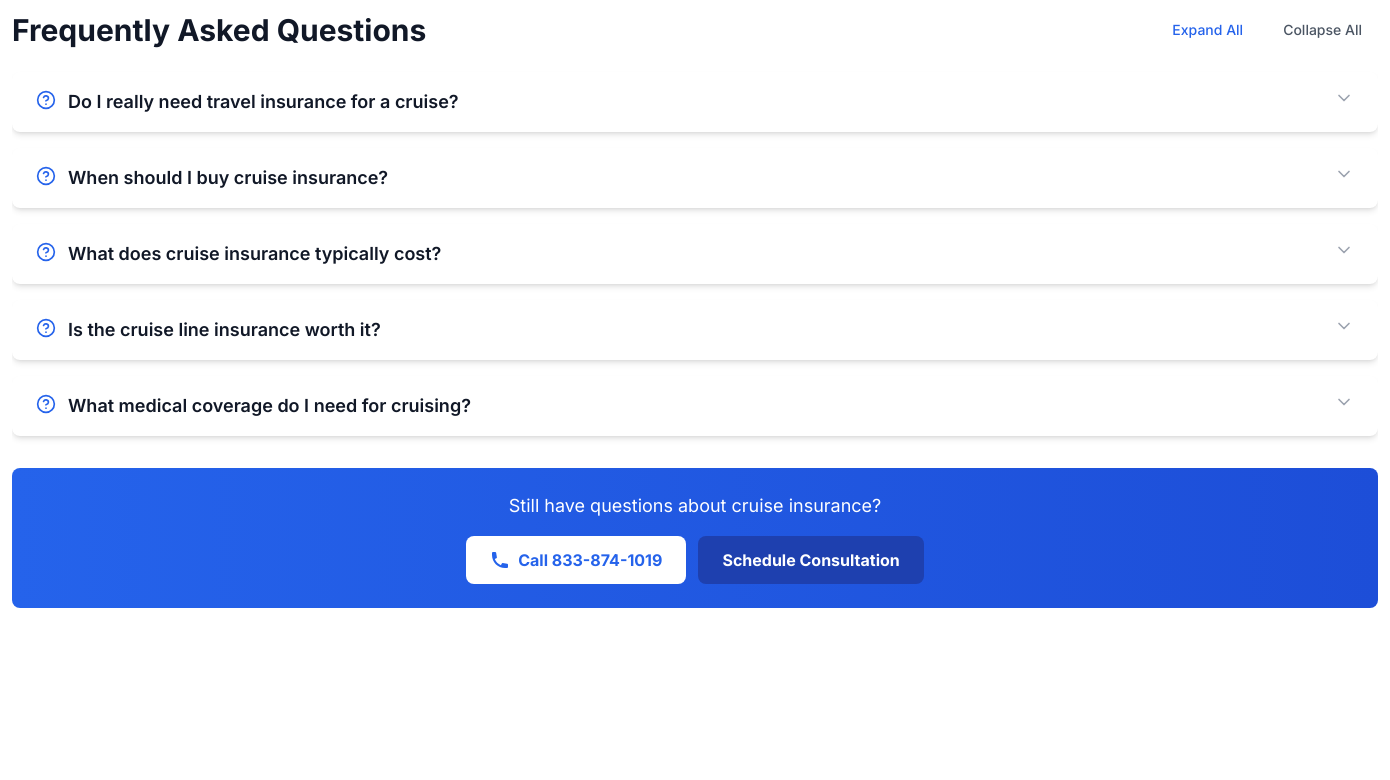
FAQAccordion Component › should expand an item when clicked
Note: Click the first question
Click the button "Do I really need travel insurance for a cruise?": (263,102) [12,72,1378,132]
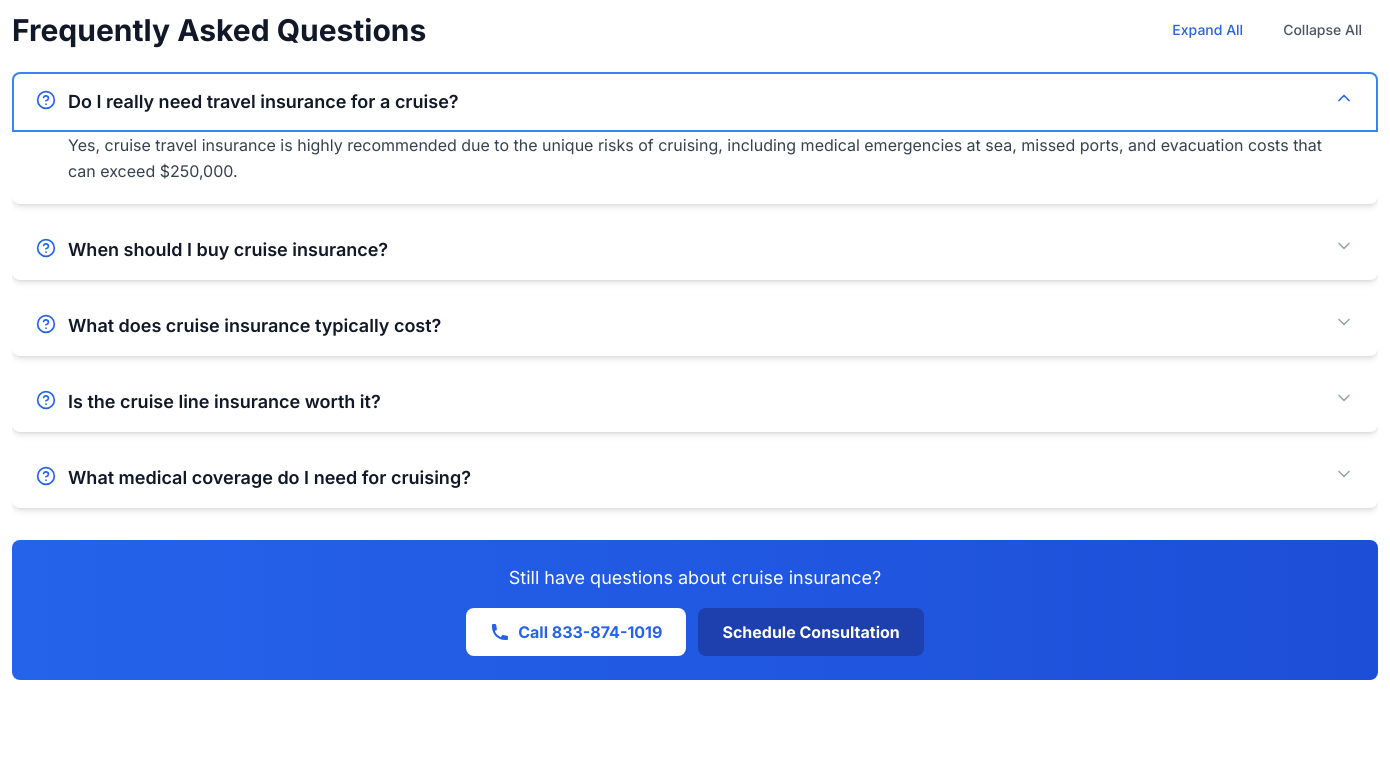
Check: the text "Yes, cruise travel insurance is highly recommended due to the unique risks of cruising, including medical emergencies at" is shown, box [68,135,1322,181]
